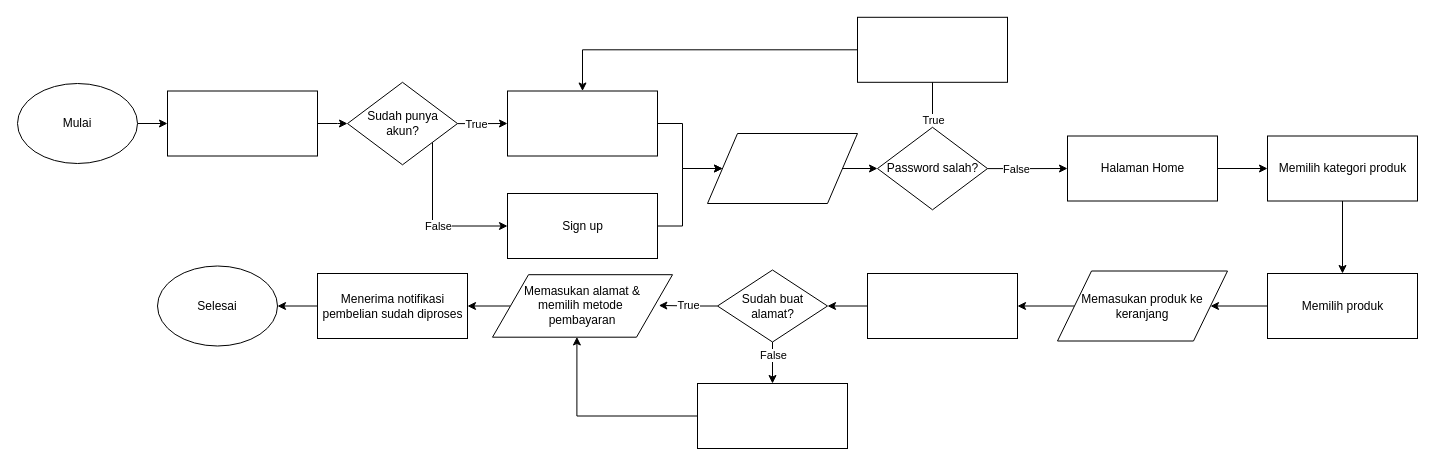
Image size: 1435x467. Some labels were removed from this diagram. Each missing label, with the centre of its shape:
Checkout produk: [942,305]
Login: [582,123]
Masukan username dan password: [782,168]
Membuat alamat baru: [772,415]
Memilih role Customer: [242,123]
Reset password: [932,49]
